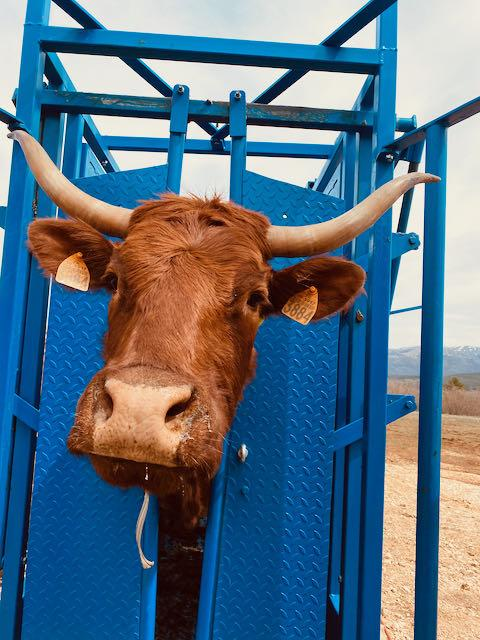muzzles: (72, 368, 214, 472)
